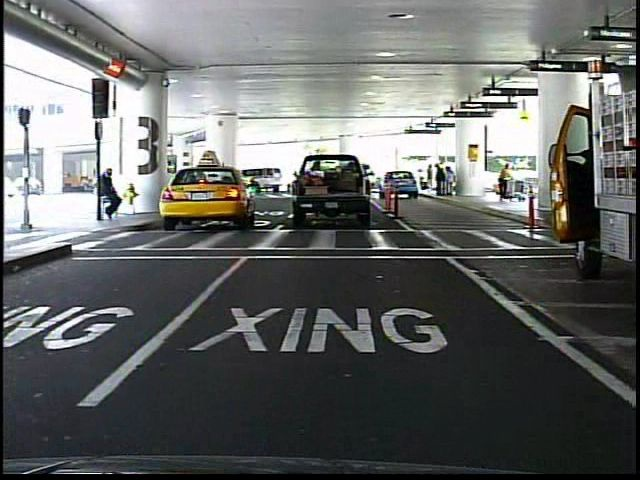person: (99, 162, 127, 225), (495, 159, 515, 207)
